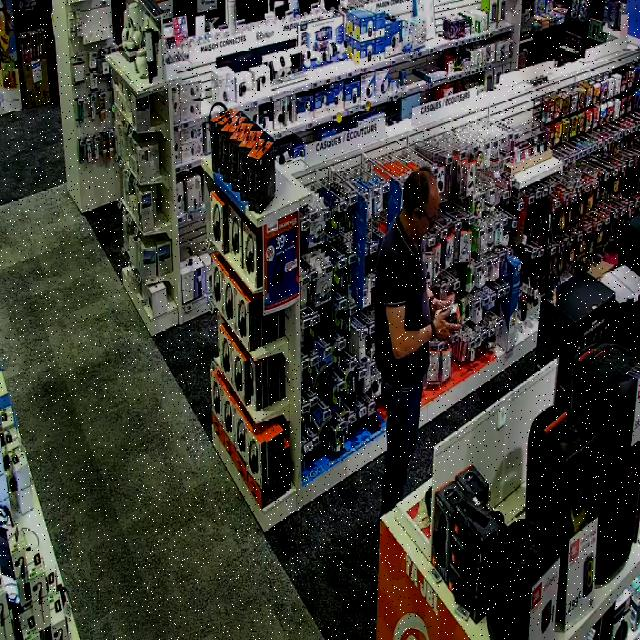article: (434, 304, 462, 324)
hands: (433, 307, 460, 339), (433, 292, 455, 310)
person: (375, 167, 458, 514)
